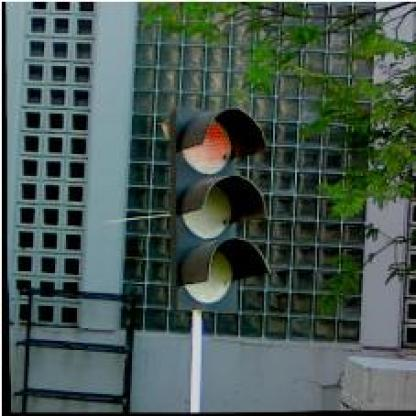red: (163, 106, 269, 312)
